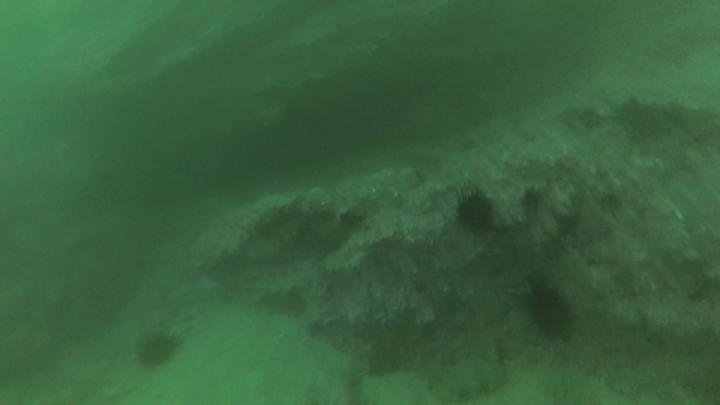echinus: (529, 281, 570, 335), (459, 196, 493, 234), (138, 335, 176, 368)
